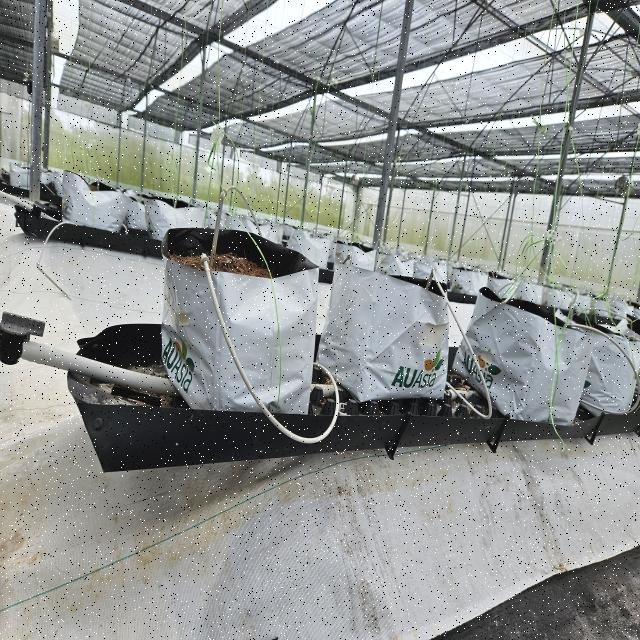Obstacle: (202, 254, 305, 445)
Soilbag: (161, 228, 320, 415), (317, 265, 450, 403)
